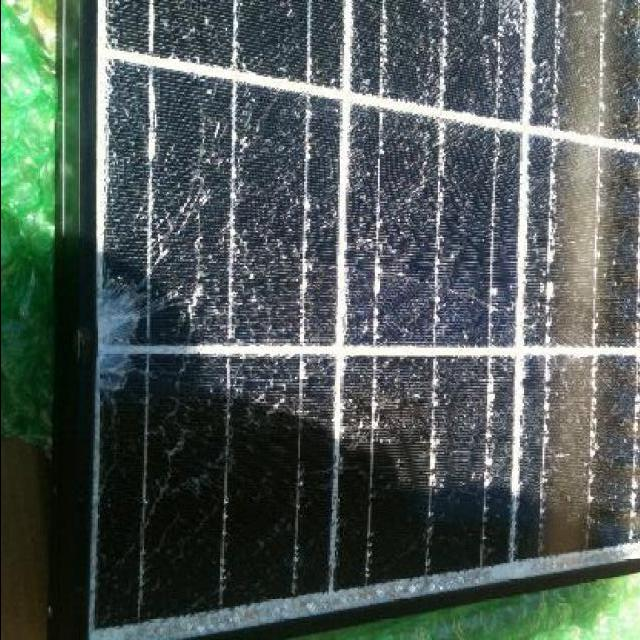cracked: (71, 8, 638, 602)
